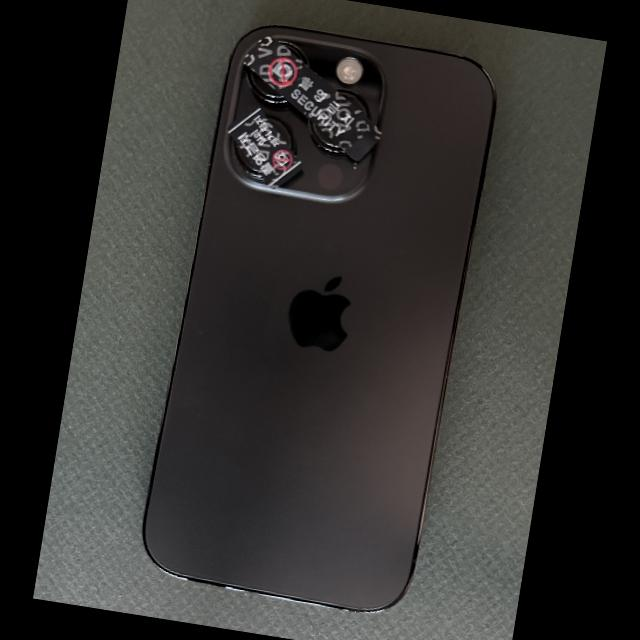lens: (247, 69, 287, 104), (309, 120, 344, 153), (265, 115, 296, 152)
phone: (144, 27, 495, 610)
sticker: (242, 36, 383, 161), (226, 106, 303, 189)
